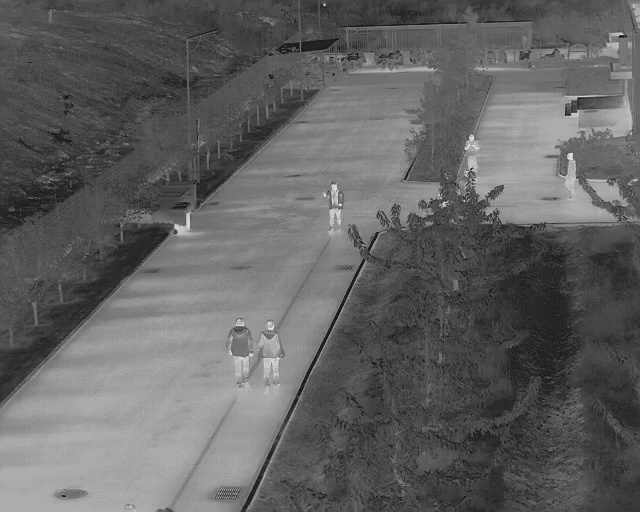person: (256, 320, 285, 391), (226, 317, 252, 387), (322, 181, 344, 233), (562, 152, 576, 200), (466, 135, 479, 173)
